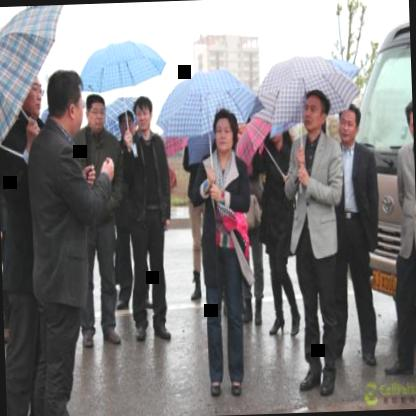head: (44, 72, 88, 145), (210, 106, 242, 158), (300, 88, 331, 137), (21, 68, 46, 126), (333, 100, 362, 146), (83, 92, 108, 140), (132, 93, 156, 135), (116, 103, 136, 145), (403, 96, 414, 150)
